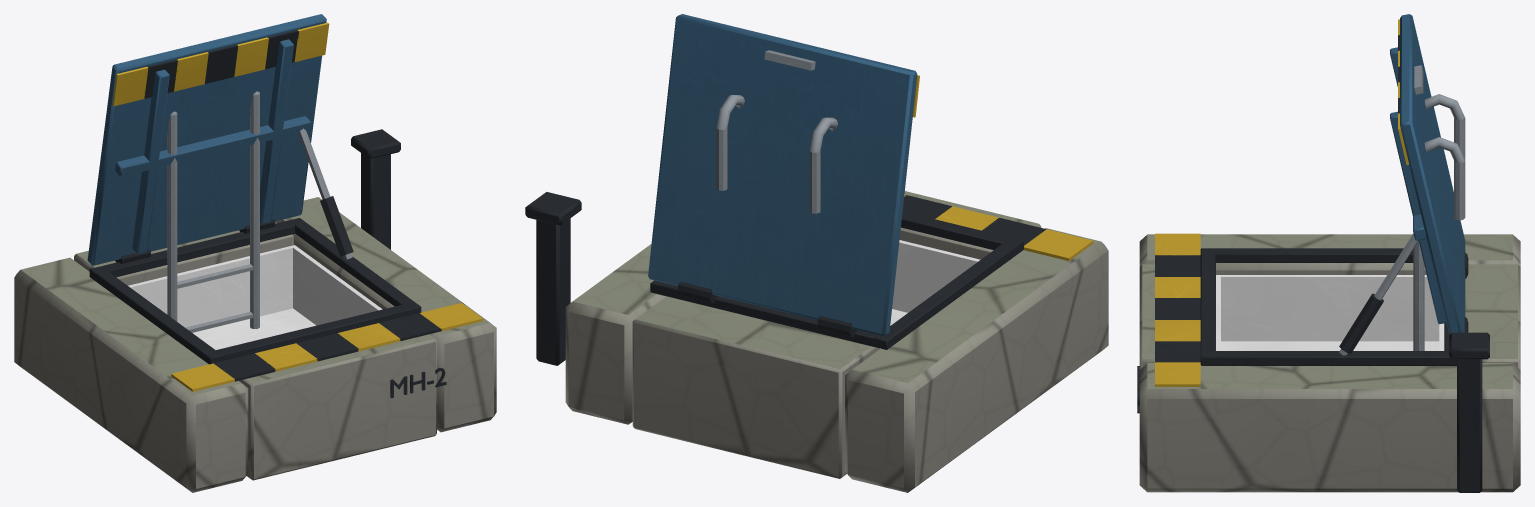
The model's file is maintenance_hatch.glb.
The picture shows the model from 3 angles, left to right: view 1: azimuth 30°, elevation 25°; view 2: azimuth 150°, elevation 25°; view 3: azimuth 270°, elevation 25°; orthographic projection. The views are drawn at different scales.
Parts seen in each view (by area): view 1: maintenance_hatch; view 2: maintenance_hatch; view 3: maintenance_hatch.
Boxes of the visible parts, bbox=[...] form: maintenance_hatch: bbox=[14, 14, 496, 492]; maintenance_hatch: bbox=[525, 14, 1108, 492]; maintenance_hatch: bbox=[1137, 14, 1520, 492].
Size of the model in its own units: 1.73 by 1.51 by 1.51.
6 materials, 6 textured.
